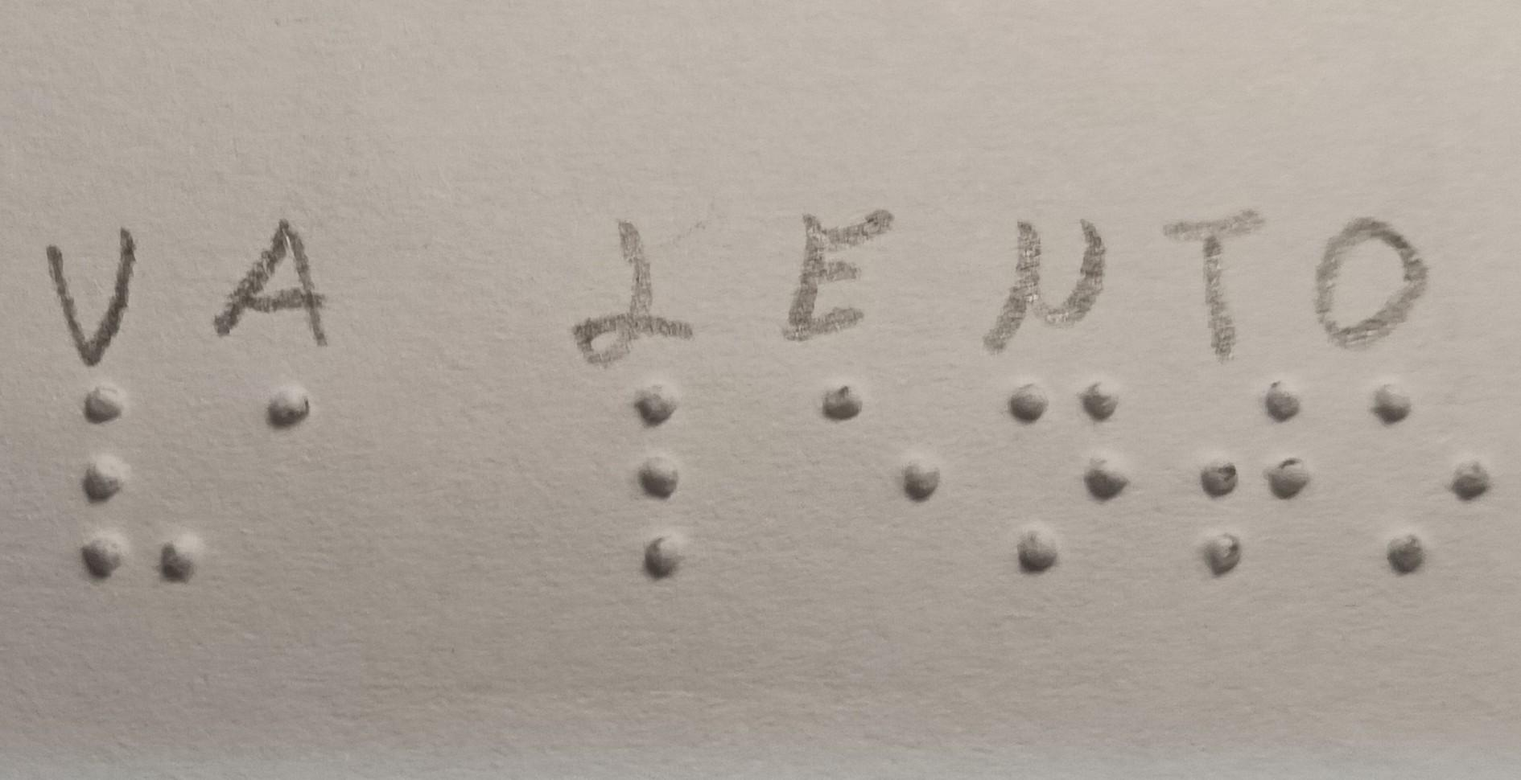a: (225, 366, 358, 470)
e: (801, 372, 954, 531)
l: (589, 382, 758, 593)
n: (980, 378, 1161, 591)
o: (1332, 364, 1501, 605)
t: (1163, 366, 1330, 603)
v: (58, 386, 205, 605)
